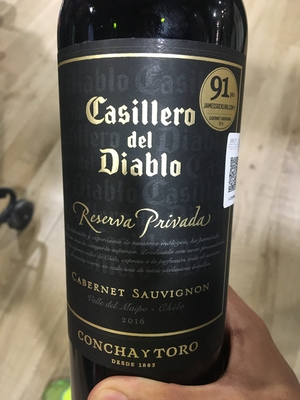casillero del diablo reserva privada cabernet sauvignon: (57, 5, 249, 398)
